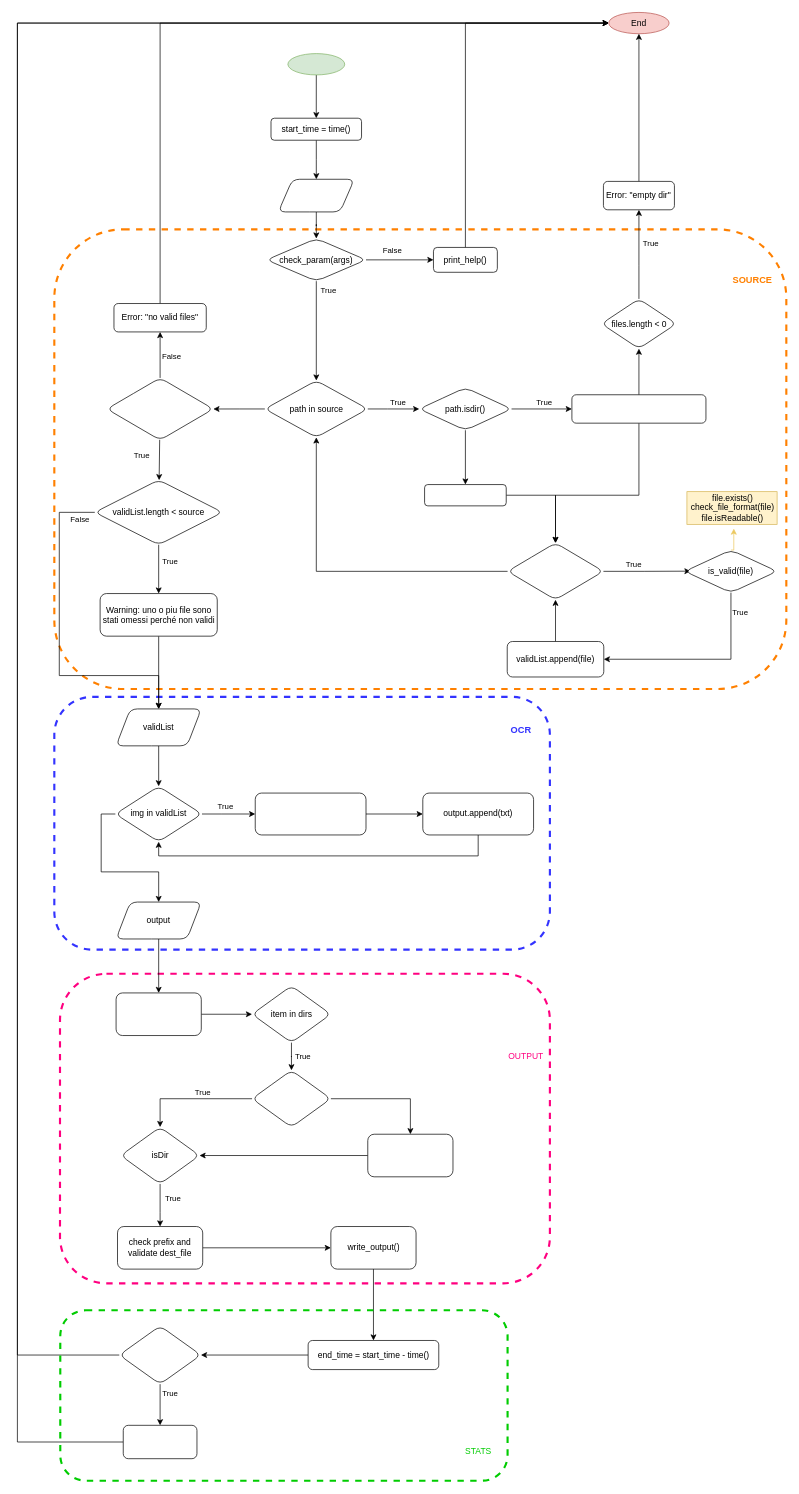
The diagram is 799 pixels wide and 1494 high, and some of its shapes have lost their labels. Here are the shapes that lost their labels. From the top down, the centre of each, then its label:
the point at 316,64: Start
the point at 316,195: parametri
the point at 159,408: validList.length > 0
the point at 638,408: files = get_dir_content(dir)
the point at 465,495: files = path
the point at 555,571: file in files
the point at 310,813: txt = pytesseract(img, lang)
the point at 158,1014: dirs= split path dest
the point at 291,1098: exists?
the point at 410,1155: create dir
the point at 160,1354: status
the point at 160,1442: print stats
